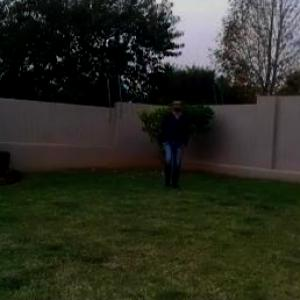follow: (160, 93, 190, 191)
